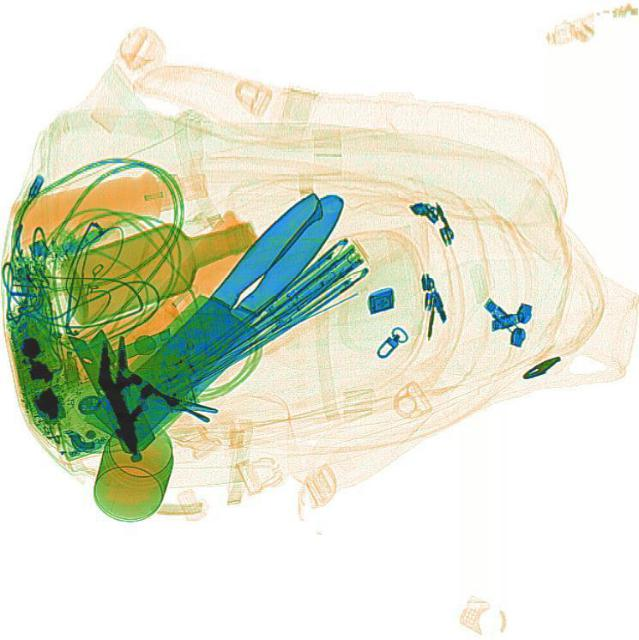Knife: (80, 172, 369, 458), (85, 188, 360, 457)
